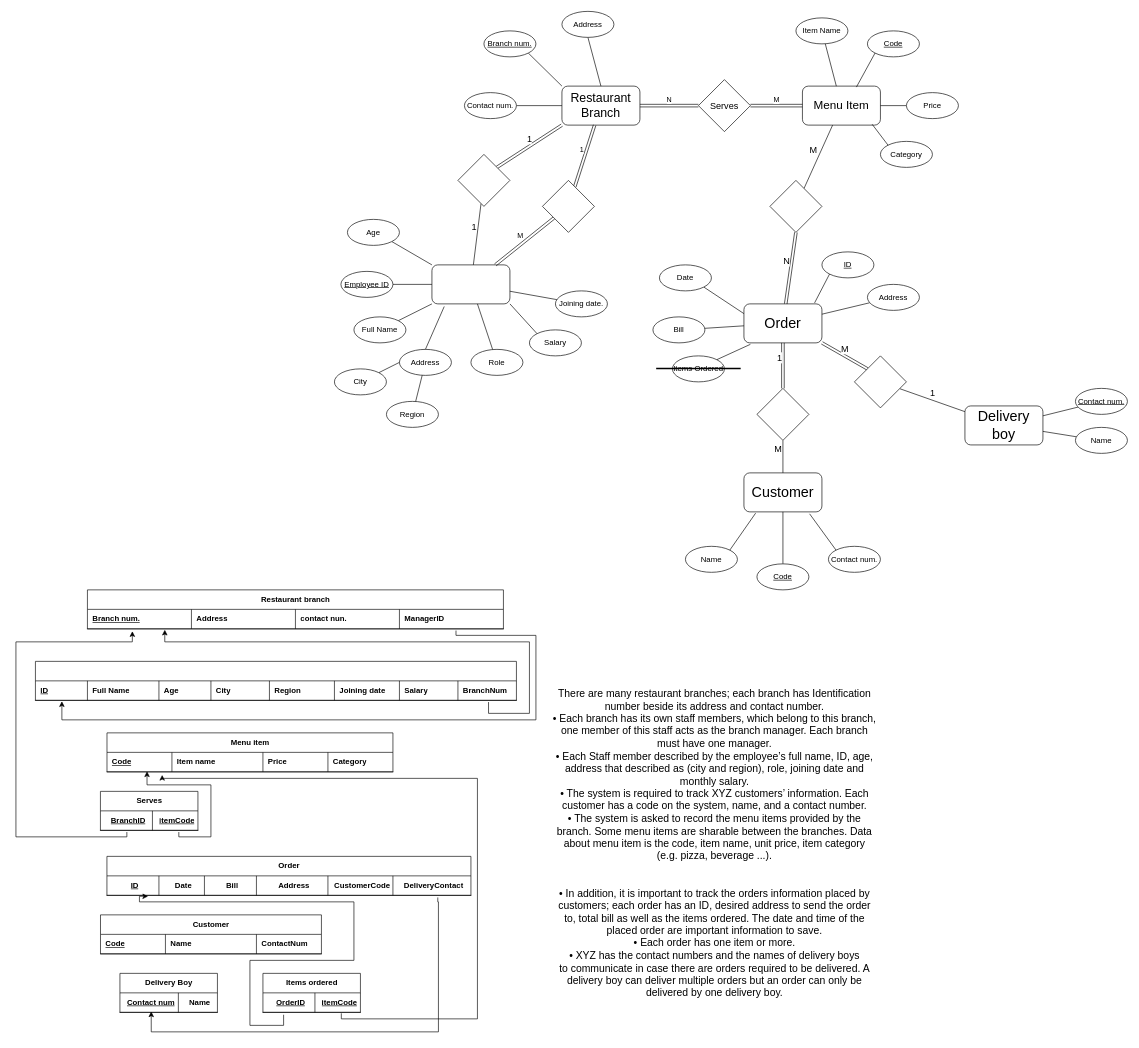
Some shapes in this 1139 by 1048 pixel diagram are drawn without their labels. The shapes that lost their labels are listed below. From the top down, each one's box as (x1, y1, x2, y2) in pixels, then its label:
(457, 154, 510, 206): Manages
(542, 180, 594, 232): Works in
(769, 180, 822, 232): has
(431, 264, 510, 304): Employees
(854, 355, 906, 408): Delivers
(756, 388, 809, 440): Makes
(35, 661, 516, 700): Employee
